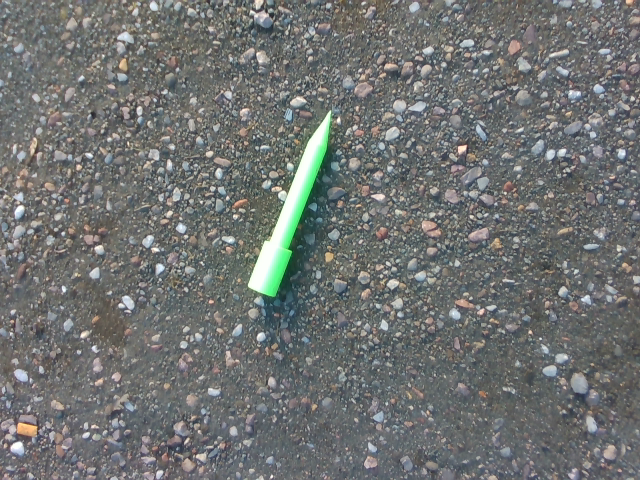Probe: (242, 103, 337, 305)
